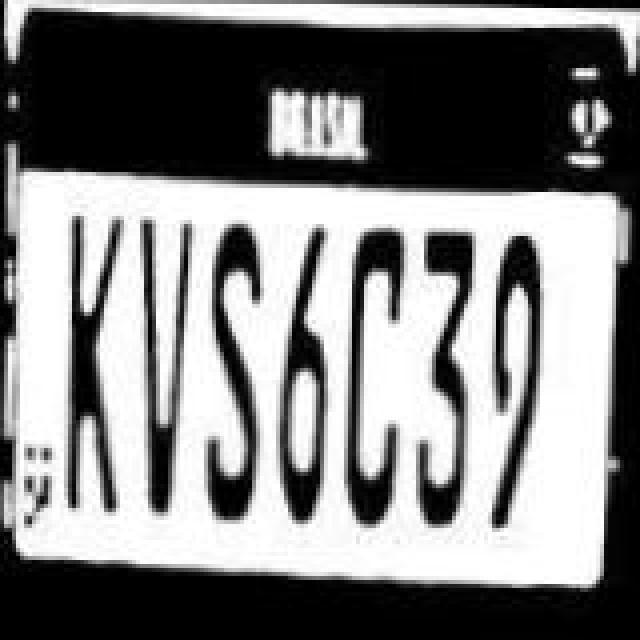3: (410, 220, 486, 532)
6: (270, 216, 346, 524)
9: (480, 232, 548, 536)
C: (340, 224, 412, 536)
K: (58, 204, 134, 516)
S: (202, 222, 270, 530)
V: (134, 212, 202, 524)
